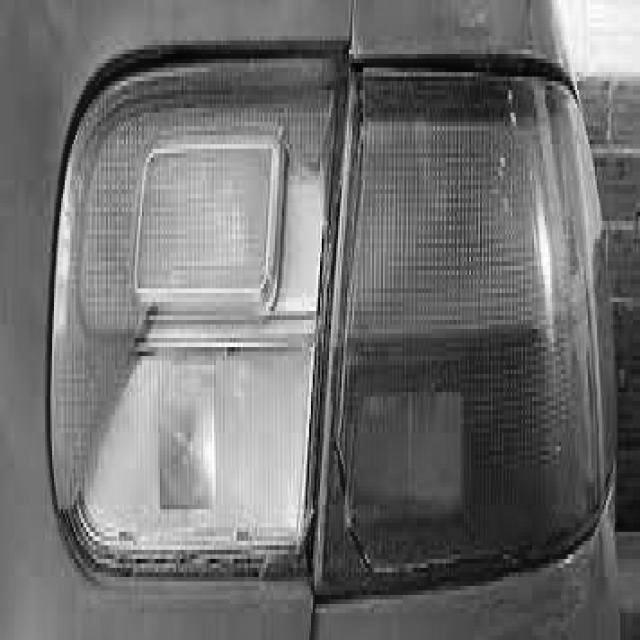Taillight-Damage: (17, 0, 640, 636)
